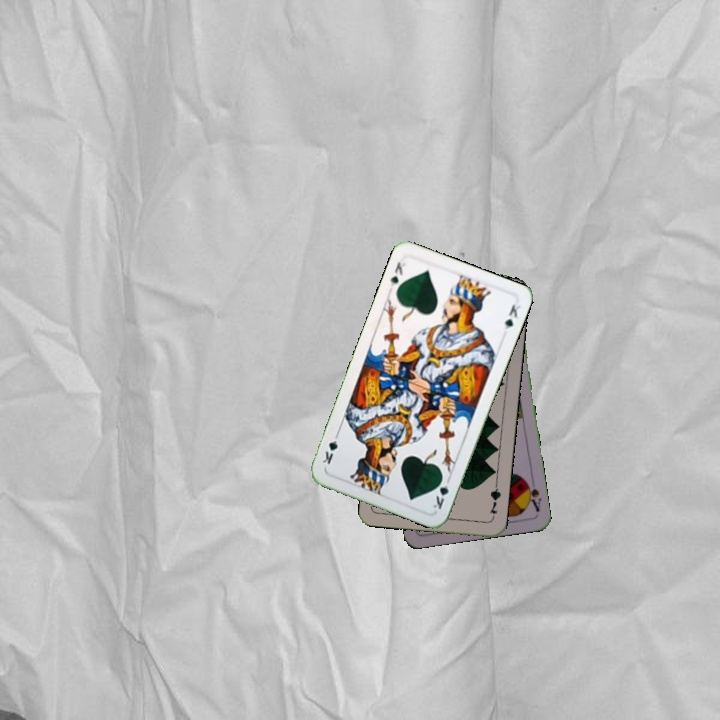G7: (486, 481, 503, 516)
GK: (429, 472, 453, 512), (386, 257, 408, 290)
SA: (521, 476, 544, 514)
